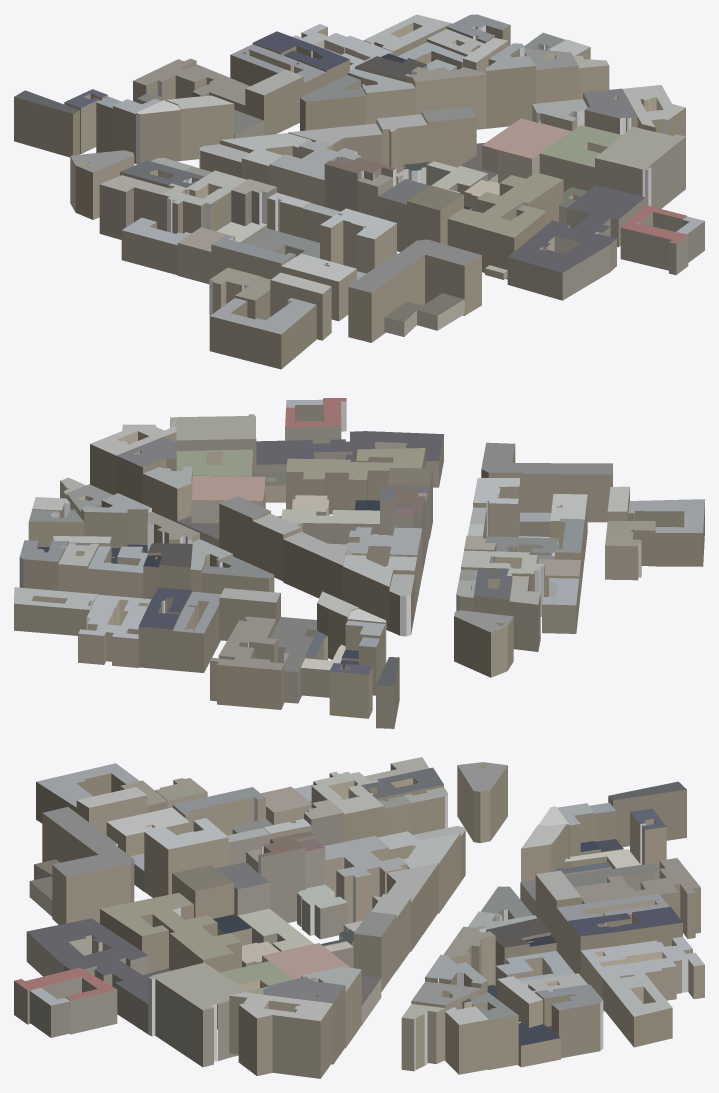
The picture shows the model from 3 angles, top to bottom: view 1: azimuth 30°, elevation 25°; view 2: azimuth 150°, elevation 25°; view 3: azimuth 270°, elevation 25°; orthographic projection. The views are drawn at different scales.
Parts seen in each view (by area): view 1: tuile; view 2: tuile; view 3: tuile.
Boxes of the visible parts, bbox=[...] form: tuile: bbox=[14, 14, 704, 369]; tuile: bbox=[14, 398, 704, 728]; tuile: bbox=[14, 757, 704, 1078].
Bounding box in the file's own units: 281 × 37.91 × 284.
